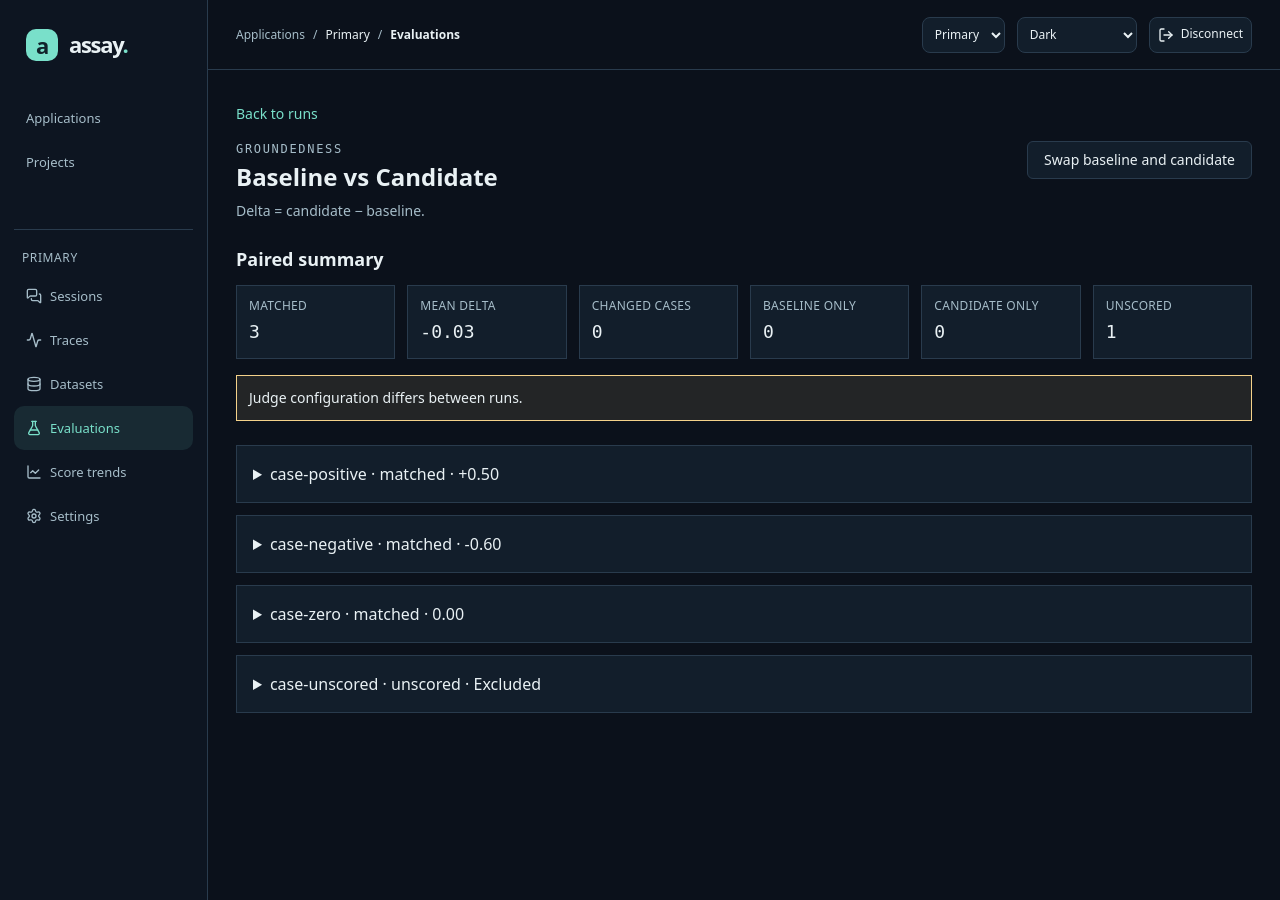
swaps the pair while retaining the scorer filter and reversing deltas
Click the button "Swap baseline and candidate" at (1140, 160), box [1027,141,1252,179]
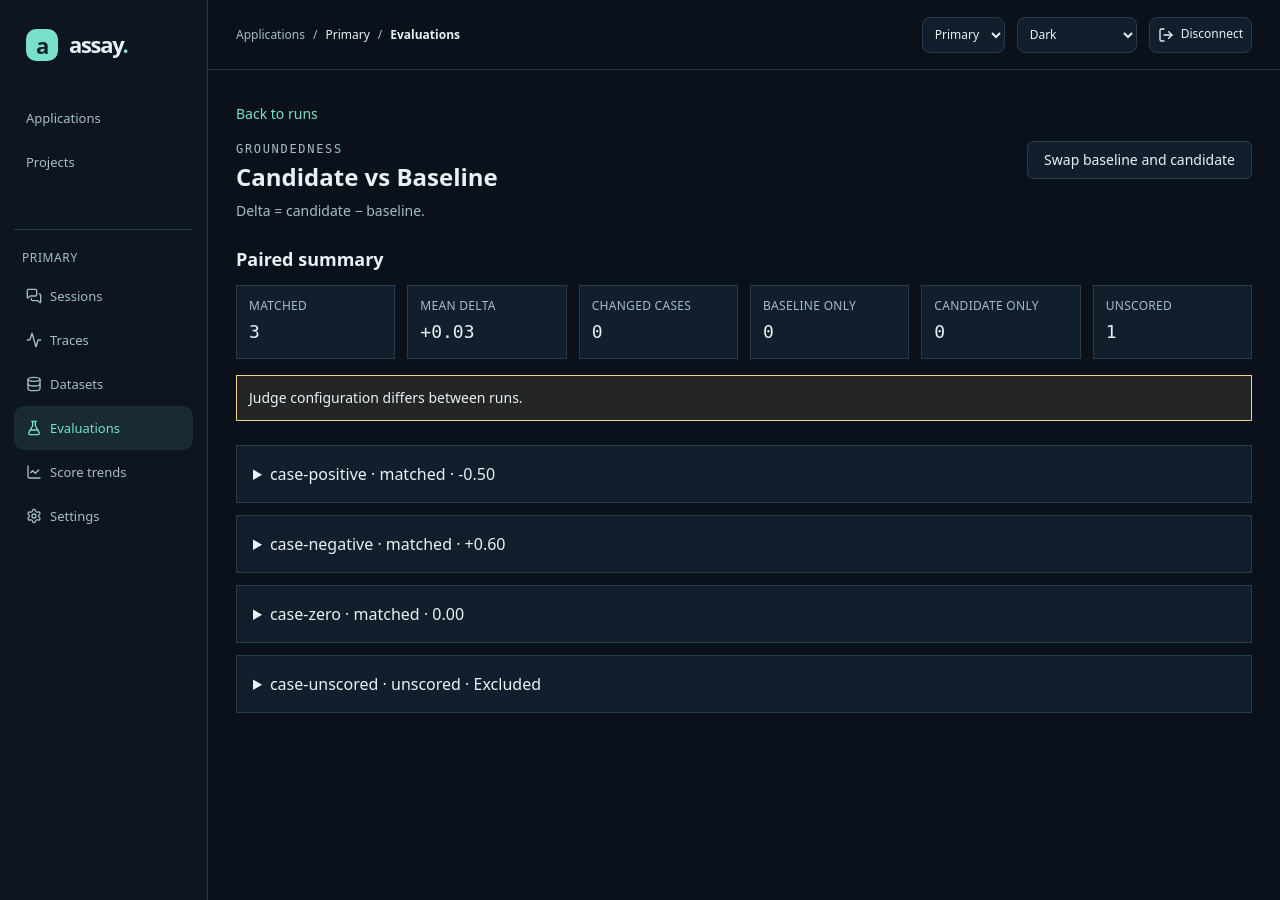
expect the text "groundedness" is shown: met, box [236,142,343,156]
expect the heading "Candidate vs Baseline" is shown: met, box [236,161,498,193]
expect the heading "case-positive · matched · -0.50" is shown: met, box [270,463,495,485]
